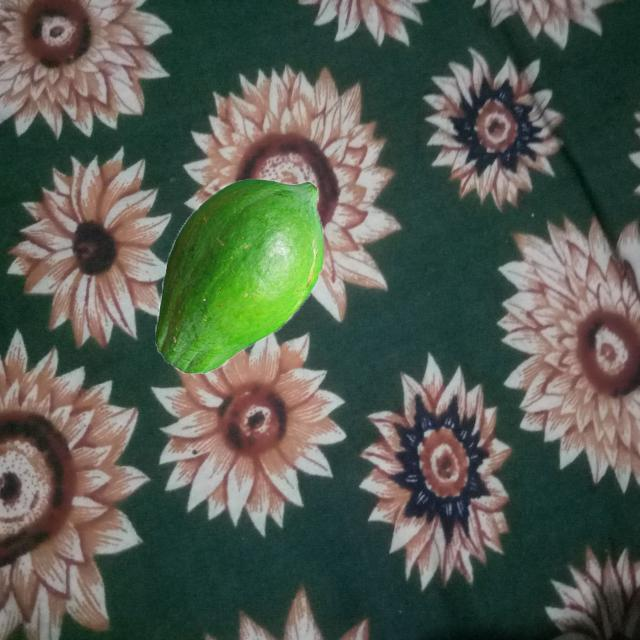Pepaya unrippen: (147, 176, 326, 378)
